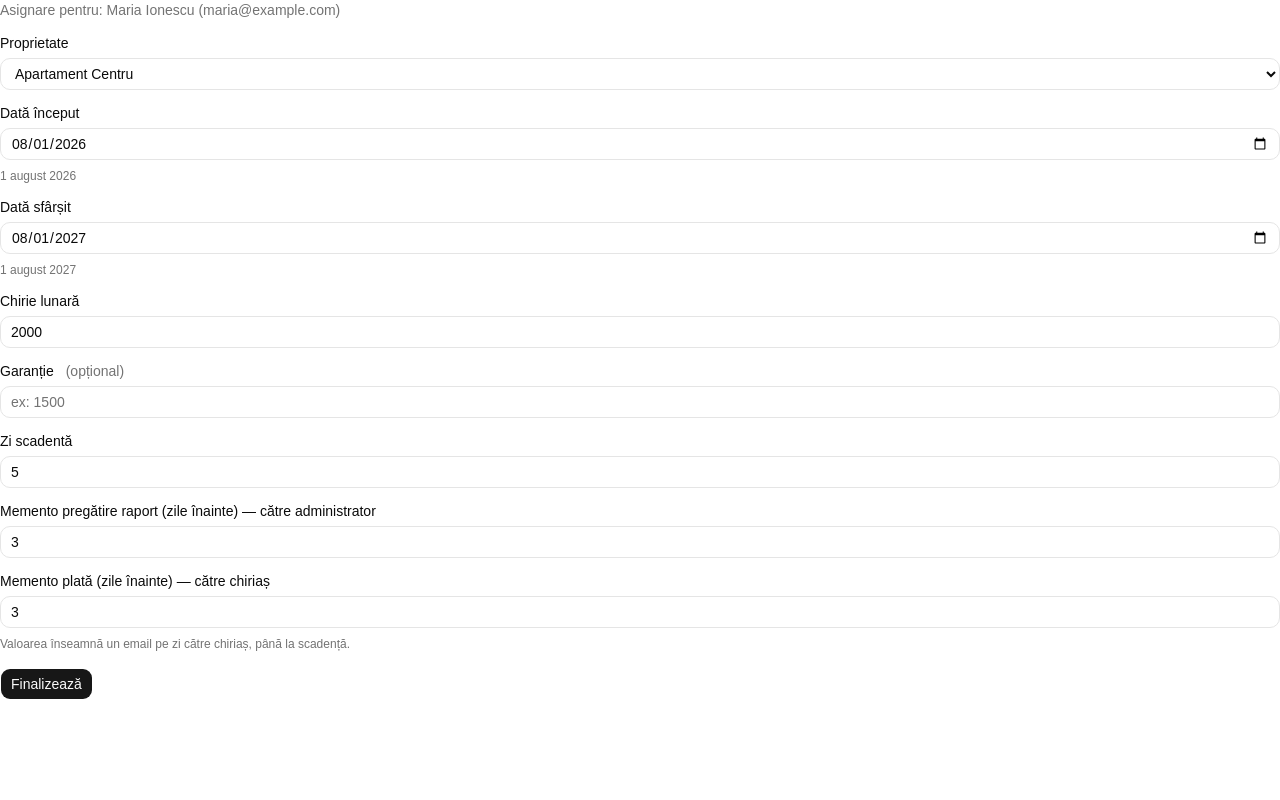
Test case: StepContract — finalize success (existing tenant, accountCreated:false) › shows a tenancy-created message with NO password, using the existing user name
Click the button "Finalizează" at (46, 684), box [0,668,93,700]
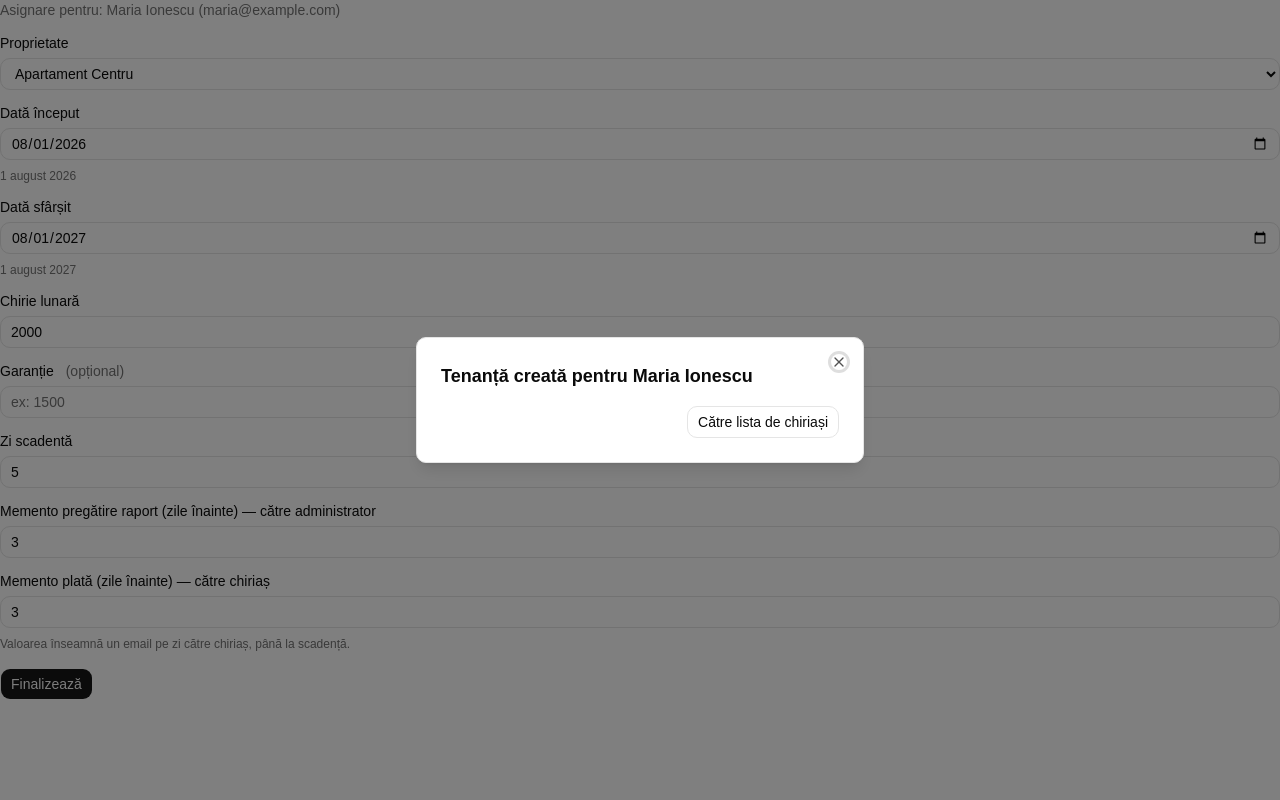
Check: the heading "Tenanță creată pentru Maria Ionescu" is shown, box [441,366,753,386]
